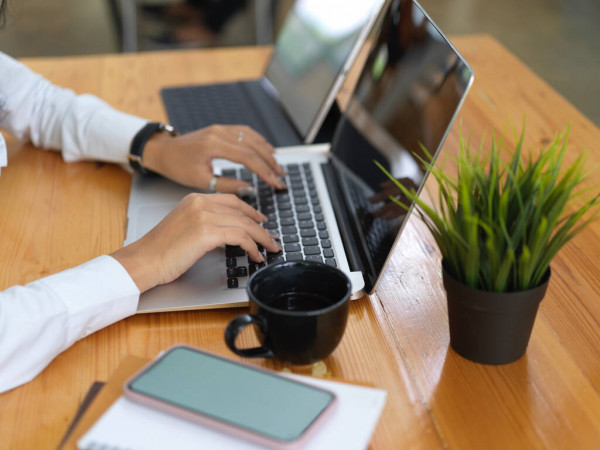Cell Phone: (124, 343, 340, 450)
